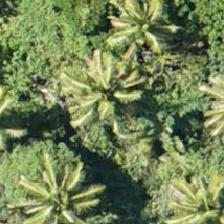coconut_tree: (44, 55, 134, 145), (86, 0, 176, 81), (8, 168, 98, 223)
